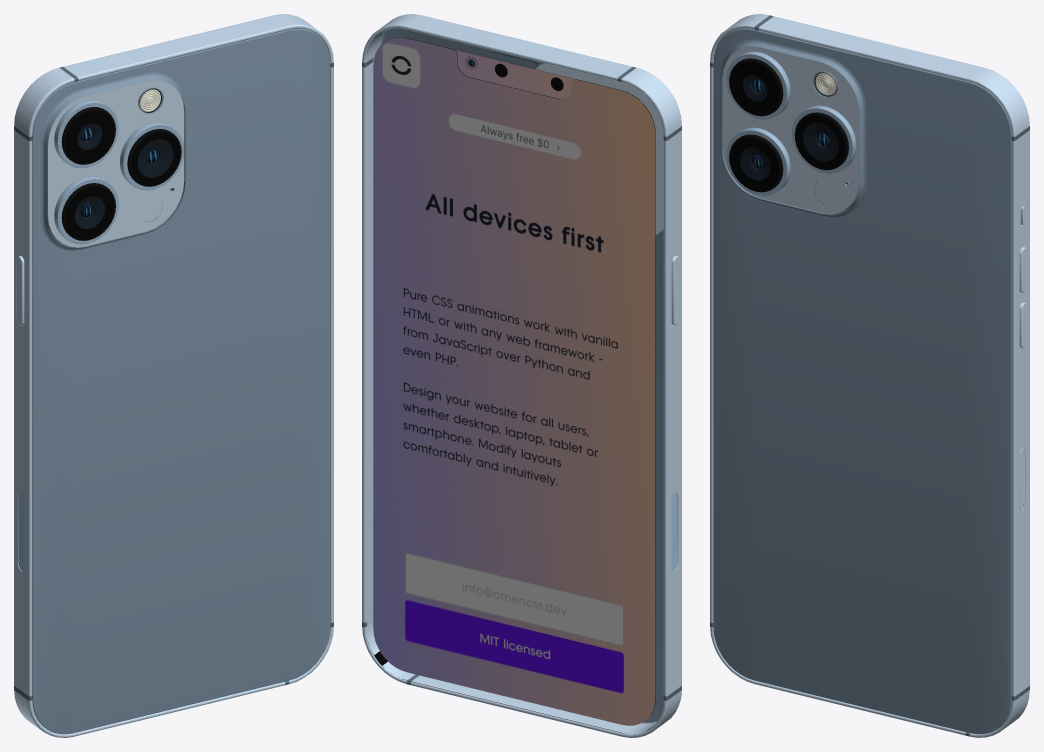
File: phone.gltf
The picture shows the model from 3 angles, left to right: view 1: azimuth 30°, elevation 25°; view 2: azimuth 150°, elevation 25°; view 3: azimuth 330°, elevation 25°; orthographic projection.
Visible parts, largest first — view 1: Body, Frame, Camera, Camera.001, Button; view 2: Body, Frame, Camera, Button; view 3: Body, Frame, Camera, Camera.001, Button.
Boxes of the visible parts, x1,y1,x2,y2 form: Body: (32, 28, 330, 734); Frame: (14, 14, 333, 737); Camera: (40, 72, 186, 250); Camera.001: (54, 87, 184, 244); Button: (16, 256, 24, 325); Body: (367, 28, 663, 734); Frame: (362, 14, 681, 737); Camera: (535, 63, 663, 235); Button: (671, 255, 679, 325); Body: (713, 28, 1011, 734); Frame: (710, 14, 1029, 737); Camera: (720, 39, 866, 217); Camera.001: (726, 51, 856, 195); Button: (1019, 247, 1026, 348).
Bounding box in the file's own units: 0.4873 × 0.9905 × 0.0633.
Materials: 20 (3 with a texture image).
